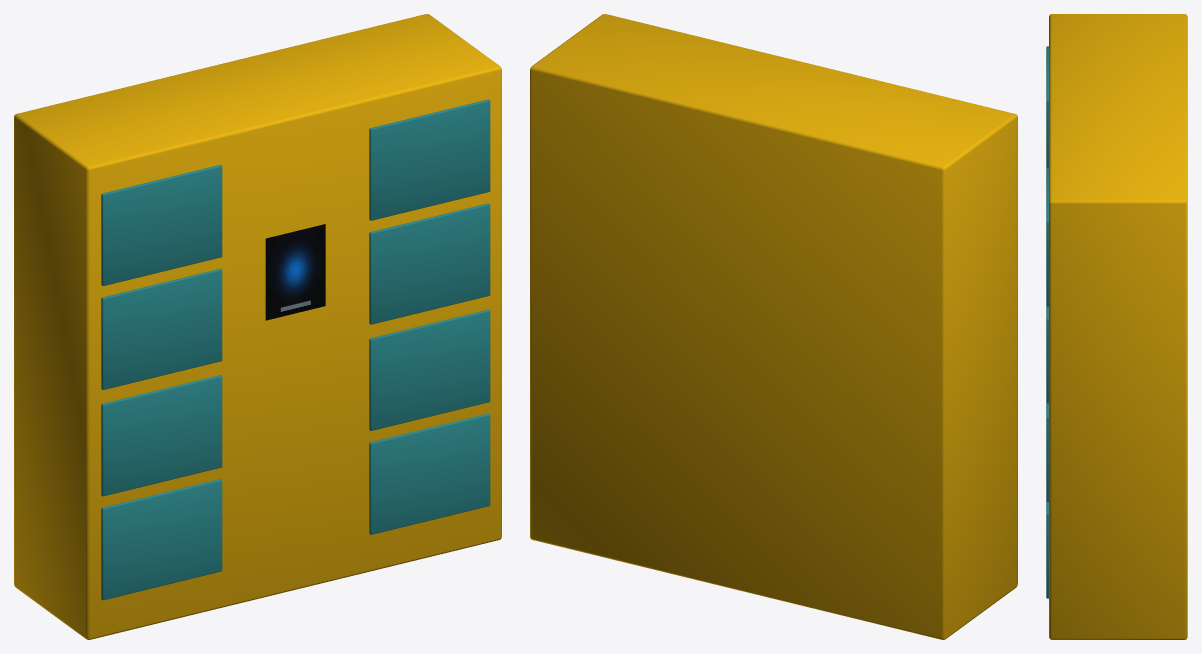
File: parcel-locker-641492701549.glb
The picture shows the model from 3 angles, left to right: view 1: azimuth 30°, elevation 25°; view 2: azimuth 150°, elevation 25°; view 3: azimuth 270°, elevation 25°; orthographic projection. The views are drawn at different scales.
Parts seen in each view (by area): view 1: Cabinet, Mesh_Bike_Teal, Screen_Surface; view 2: Cabinet; view 3: Cabinet, Mesh_Bike_Teal.
Boxes of the visible parts, bbox=[...] form: Cabinet: bbox=[14, 14, 501, 639]; Mesh_Bike_Teal: bbox=[101, 99, 490, 600]; Screen_Surface: bbox=[265, 224, 325, 320]; Cabinet: bbox=[530, 14, 1017, 639]; Cabinet: bbox=[1049, 14, 1187, 639]; Mesh_Bike_Teal: bbox=[1046, 46, 1048, 598].
Bounding box in the file's own units: 1.8 × 1.96 × 0.571.
Materials: 3 (1 with a texture image).
